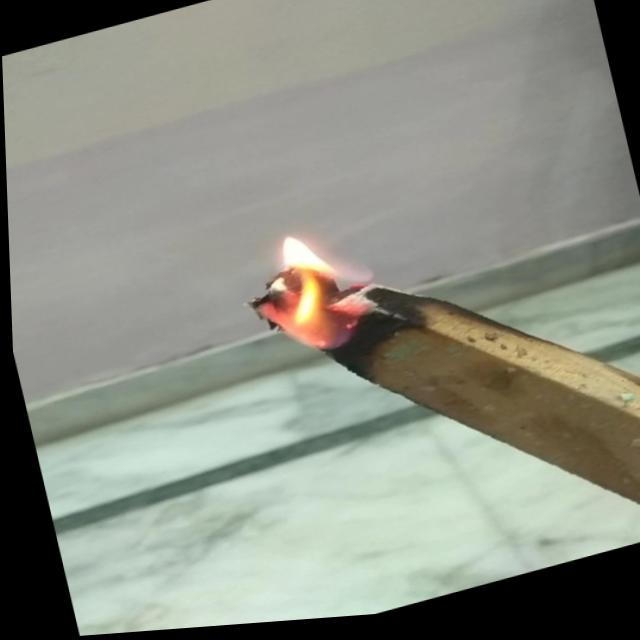fire: (220, 209, 391, 384)
